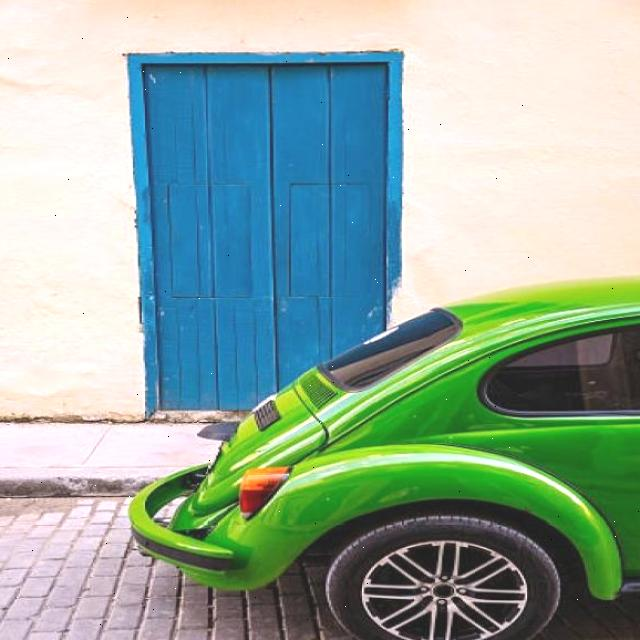car: (128, 286, 640, 630)
